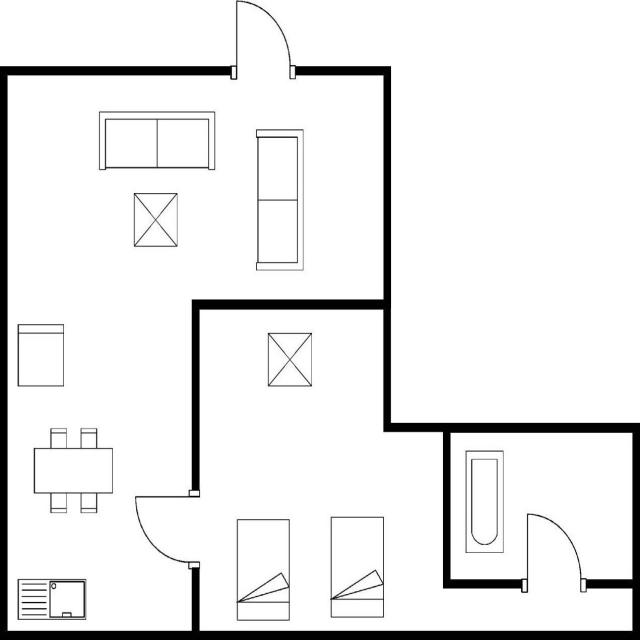bed: (232, 515, 294, 623), (328, 512, 388, 622)
coffee_table: (130, 189, 182, 249), (264, 330, 314, 390)
dining_table: (30, 424, 116, 518)
large_sofa: (96, 108, 218, 174), (254, 125, 304, 274)
sink: (14, 574, 89, 622)
small_sofa: (15, 321, 66, 391)
tub: (462, 446, 506, 558)
